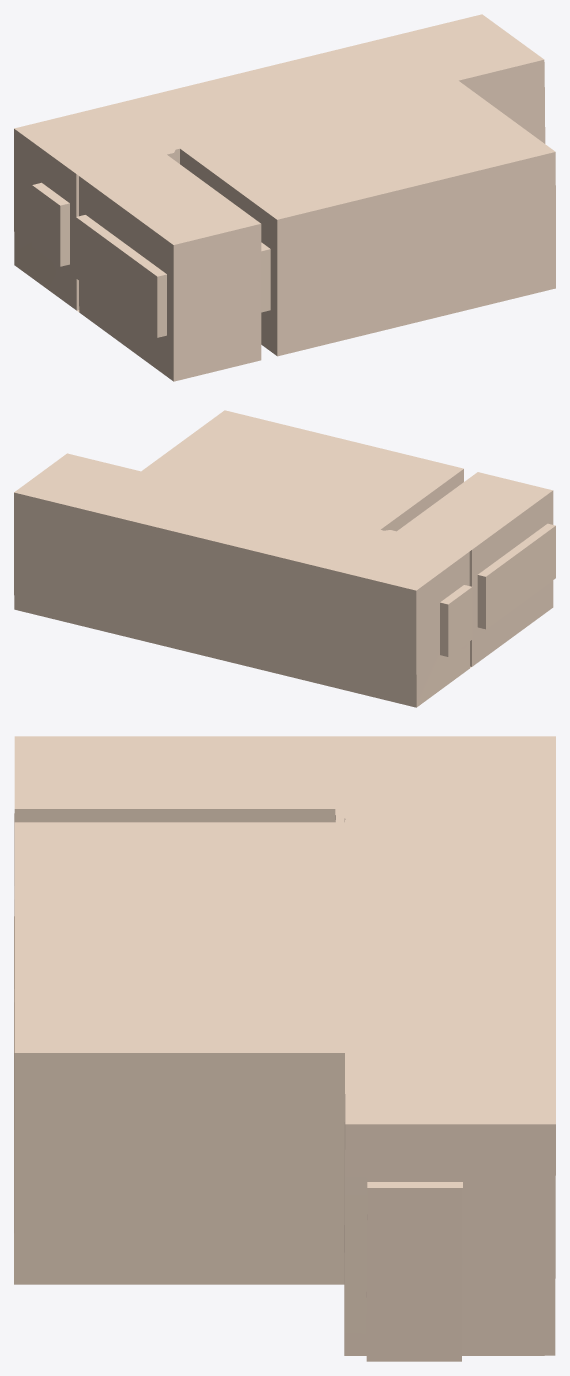
Rendered from Room_blockout_2.FBX.
The picture shows the model from 3 angles, top to bottom: view 1: azimuth 30°, elevation 25°; view 2: azimuth 150°, elevation 25°; view 3: azimuth 270°, elevation 25°; orthographic projection. The views are drawn at different scales.
Parts seen in each view (by area): view 1: Box001; view 2: Box001; view 3: Box001.
Boxes of the visible parts, x1,y1,x2,y2 form: Box001: (14,14,555,381); Box001: (14,410,555,707); Box001: (14,736,555,1361).
Bounding box in the file's own units: 440 × 118 × 250.
